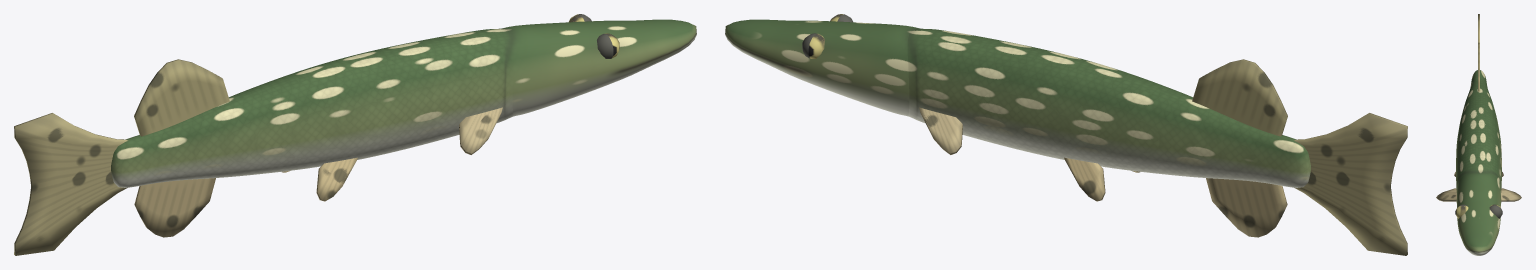
Rendered from fish_pike.fbx.
3 views of the same model, side by side, from view 1: azimuth 30°, elevation 25°; view 2: azimuth 150°, elevation 25°; view 3: azimuth 270°, elevation 25° (orthographic). The views are drawn at different scales.
Parts seen in each view (by area): view 1: fish_pike; view 2: fish_pike; view 3: fish_pike.
Boxes of the visible parts, left/top/right/bottom form: fish_pike: left=14, top=14, right=696, bottom=255; fish_pike: left=725, top=14, right=1407, bottom=255; fish_pike: left=1436, top=14, right=1521, bottom=255.
Size of the model in its own units: 69.51 by 17.01 by 12.76.
Materials: 1 (1 with a texture image).
